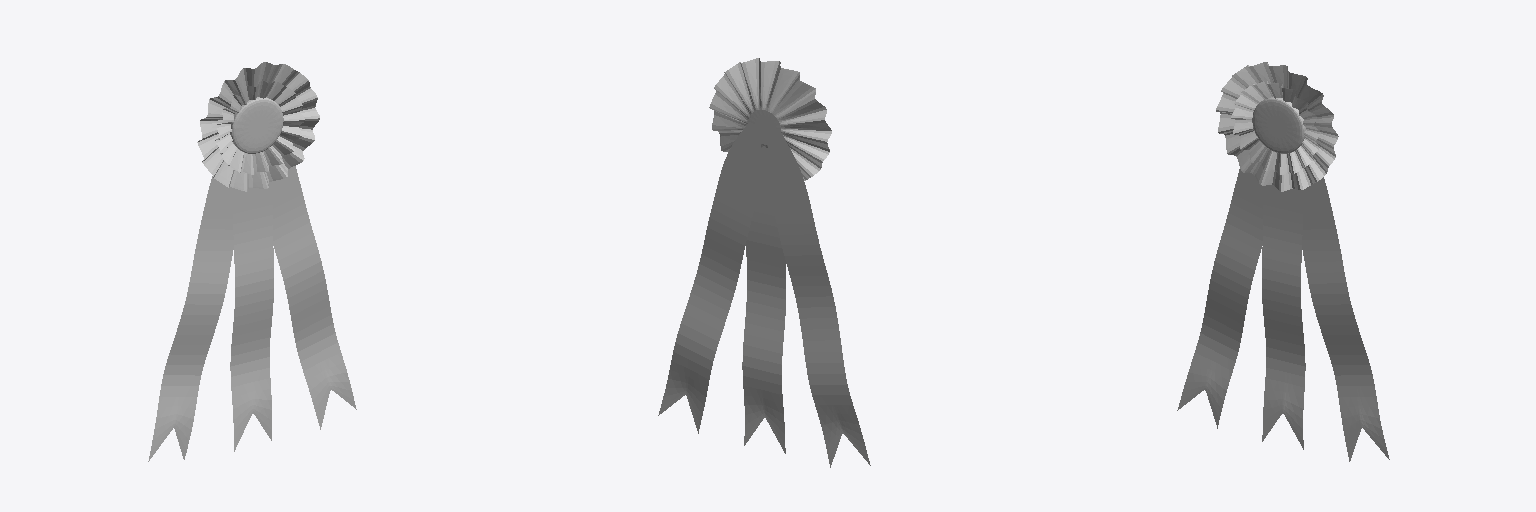
File: RibbonModel.obj
The picture shows the model from 3 angles: view 1: azimuth 30°, elevation 25°; view 2: azimuth 150°, elevation 25°; view 3: azimuth 330°, elevation 25°; orthographic projection.
Parts seen in each view (by area): view 1: polySurface3 polySurface10, polySurface3 polySurface8, polySurface3 polySurface9, polySurface4 polySurface3, polySurface3 polySurface5, polySurface3 polySurface6; view 2: polySurface3 polySurface10, polySurface3 polySurface9, polySurface3 polySurface8, polySurface4 polySurface3; view 3: polySurface3 polySurface9, polySurface3 polySurface8, polySurface3 polySurface10, polySurface4 polySurface3, polySurface3 polySurface5, polySurface3 polySurface6.
Part boxes in pixels (x1,y1,x2,y2): polySurface3 polySurface10: (148, 176, 233, 461); polySurface3 polySurface8: (230, 181, 273, 451); polySurface3 polySurface9: (273, 166, 356, 429); polySurface4 polySurface3: (197, 62, 319, 191); polySurface3 polySurface5: (215, 81, 304, 174); polySurface3 polySurface6: (230, 97, 283, 153); polySurface3 polySurface10: (767, 129, 870, 467); polySurface3 polySurface9: (658, 122, 761, 433); polySurface3 polySurface8: (742, 120, 785, 453); polySurface4 polySurface3: (709, 58, 831, 180); polySurface3 polySurface9: (1302, 177, 1389, 461); polySurface3 polySurface8: (1262, 185, 1305, 449); polySurface3 polySurface10: (1177, 169, 1262, 428); polySurface4 polySurface3: (1216, 62, 1338, 191); polySurface3 polySurface5: (1231, 80, 1320, 174); polySurface3 polySurface6: (1252, 97, 1305, 153).
Size of the model in its own units: 6.12 by 10.7 by 0.6564.